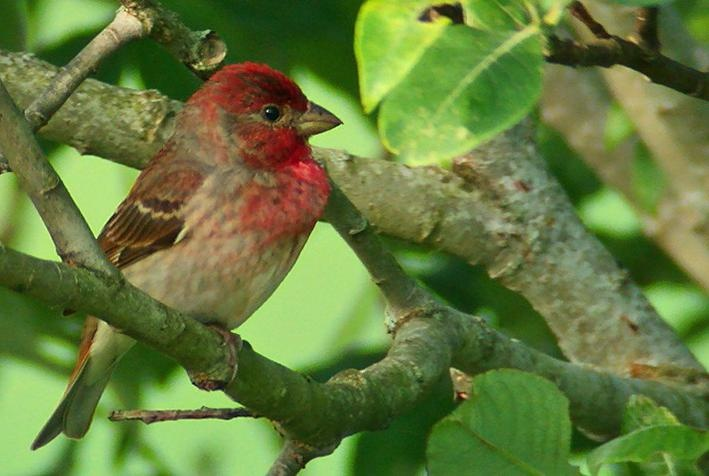rosefinch: (103, 61, 360, 410)
